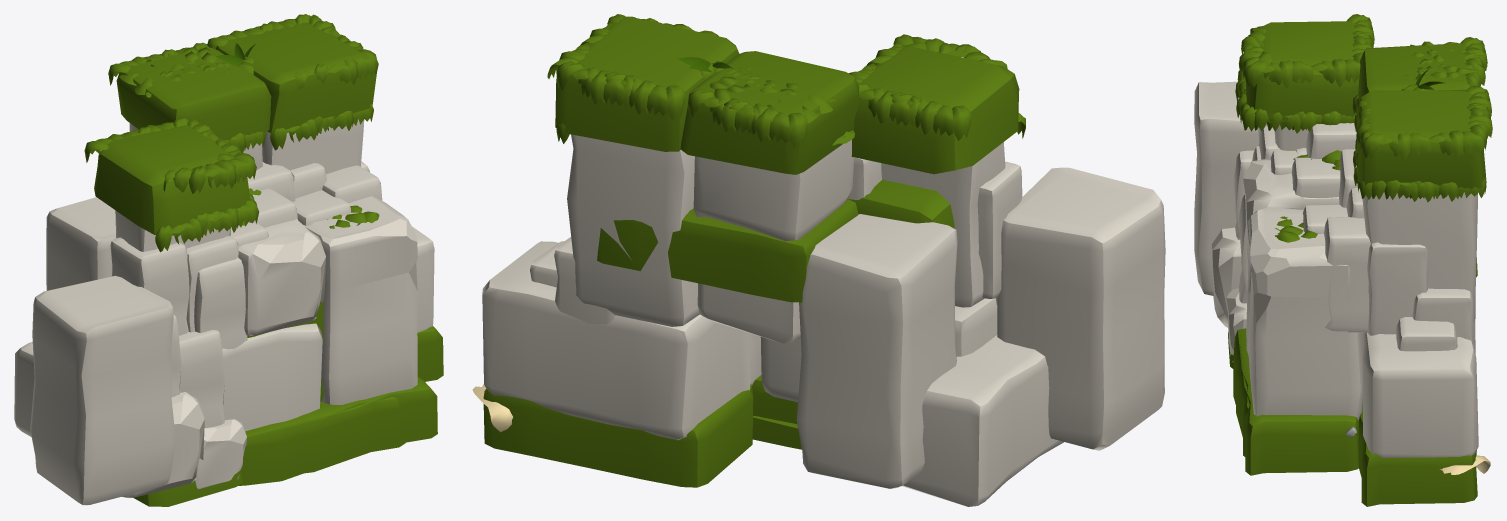
The model's file is MSH_Stat_StoneGroupShaderTest.fbx.
3 views of the same model, side by side, from view 1: azimuth 30°, elevation 25°; view 2: azimuth 150°, elevation 25°; view 3: azimuth 270°, elevation 25° (orthographic). The views are drawn at different scales.
Parts seen in each view (by area): view 1: Stone2x1_27, Stone2x1_5, Cap1x1_3, Cap1x1_5, Cap1x1_4, Stone2x1_6, Stone2x1_8, Cap2x1_7, Stone2x1_10, Cap2x1_6, Stone2x1_40, Stone2x1_41 (+16 smaller); view 2: Stone2x1_27, Stone2x1_10, Stone2x1_11, Stone2x1_9, Stone2x1_40, Cap2x1_8, Cap1x1_3, Cap1x1_4, Cap1x1_5, Cap2x1_10, Stone1x1_4, Stone2x1_7 (+9 smaller); view 3: Stone2x1_5, Stone2x1_11, Cap1x1_4, Stone2x1_27, Stone2x1_9, Cap2x1_7, Cap1x1_3, Cap2x1_8, Stone2x1_29, Stone2x1_32, Cap1x1_5, Stone2x1_8 (+21 smaller).
Part boxes in pixels (x1,y1,x2,y2): Stone2x1_27: [30, 275, 175, 505]; Stone2x1_5: [303, 196, 417, 404]; Cap1x1_3: [94, 125, 250, 235]; Cap1x1_5: [116, 46, 271, 140]; Cap1x1_4: [215, 22, 376, 133]; Stone2x1_6: [222, 323, 322, 431]; Stone2x1_8: [238, 219, 325, 335]; Cap2x1_7: [276, 377, 437, 473]; Stone2x1_10: [46, 197, 115, 290]; Cap2x1_6: [238, 397, 405, 485]; Stone2x1_40: [14, 342, 204, 498]; Stone2x1_41: [110, 237, 189, 335]; Stone2x1_27: [997, 167, 1165, 450]; Stone2x1_10: [796, 214, 957, 488]; Stone2x1_11: [482, 241, 750, 439]; Stone2x1_9: [567, 134, 699, 326]; Stone2x1_40: [902, 335, 1063, 506]; Cap2x1_8: [483, 384, 753, 487]; Cap1x1_3: [851, 46, 1019, 174]; Cap1x1_4: [555, 16, 739, 151]; Cap1x1_5: [680, 51, 858, 174]; Cap2x1_10: [597, 199, 858, 302]; Stone1x1_4: [693, 139, 854, 241]; Stone2x1_7: [881, 142, 1005, 307]; Stone2x1_5: [1248, 207, 1363, 420]; Stone2x1_11: [1363, 320, 1478, 458]; Cap1x1_4: [1356, 90, 1486, 188]; Stone2x1_27: [1194, 81, 1259, 295]; Stone2x1_9: [1362, 192, 1477, 321]; Cap2x1_7: [1236, 345, 1358, 475]; Cap1x1_3: [1244, 21, 1358, 122]; Cap2x1_8: [1358, 399, 1477, 506]; Stone2x1_29: [1367, 242, 1428, 335]; Stone2x1_32: [1324, 217, 1370, 332]; Cap1x1_5: [1358, 43, 1469, 100]; Stone2x1_8: [1243, 159, 1339, 267].
Size of the model in its own units: 24.02 by 17.58 by 13.66.
